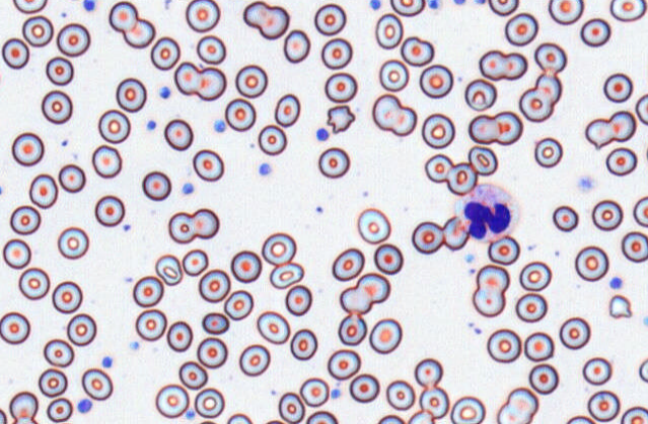GRAN: (455, 181, 527, 246)
PLT: (258, 161, 276, 178), (76, 397, 94, 414), (213, 118, 229, 133), (329, 387, 344, 403), (316, 125, 330, 142), (100, 355, 115, 370), (158, 84, 172, 100), (609, 276, 625, 290), (182, 180, 195, 197), (82, 0, 97, 13), (367, 0, 381, 13), (425, 0, 441, 11), (145, 118, 157, 130), (185, 408, 196, 421), (472, 0, 487, 8), (452, 0, 468, 7)
RBC: (371, 93, 416, 136), (468, 110, 523, 145), (243, 0, 289, 39), (478, 49, 527, 81), (518, 86, 553, 122), (574, 245, 609, 281), (357, 207, 391, 244), (486, 328, 521, 363), (421, 113, 455, 148), (155, 383, 189, 418), (369, 318, 402, 354), (504, 12, 538, 46), (419, 64, 453, 98), (56, 22, 90, 56), (256, 310, 290, 344), (261, 232, 296, 265), (411, 220, 444, 254), (331, 247, 364, 281), (11, 132, 44, 166), (185, 0, 220, 32), (464, 78, 497, 111), (235, 64, 267, 98), (198, 268, 230, 302), (98, 109, 130, 143), (355, 272, 390, 303), (115, 77, 146, 112), (534, 42, 566, 75), (327, 348, 360, 380), (18, 267, 50, 300), (238, 343, 270, 376), (224, 98, 256, 131), (57, 226, 89, 259), (91, 144, 122, 178), (41, 90, 72, 124), (314, 3, 346, 35), (318, 146, 350, 178), (192, 149, 224, 181), (591, 199, 623, 231), (587, 390, 620, 421), (324, 72, 357, 103), (559, 316, 590, 349), (135, 308, 166, 341), (230, 250, 261, 283), (196, 66, 226, 100), (150, 36, 180, 70), (400, 36, 434, 66), (29, 173, 58, 208), (375, 13, 403, 49), (22, 15, 53, 47), (378, 59, 409, 91), (321, 37, 352, 69), (132, 275, 163, 307), (81, 368, 112, 400), (196, 336, 227, 368), (122, 18, 155, 48), (446, 162, 476, 195), (419, 386, 449, 419), (0, 311, 30, 344), (66, 313, 96, 346), (52, 280, 82, 313), (269, 261, 304, 289), (450, 395, 485, 423), (487, 235, 519, 265), (519, 261, 551, 291), (515, 292, 547, 322), (94, 194, 124, 226), (472, 288, 505, 317), (442, 215, 469, 250), (585, 118, 615, 149), (108, 1, 138, 32), (385, 379, 415, 410), (523, 331, 554, 361), (528, 363, 558, 394), (373, 243, 403, 274), (580, 17, 611, 47), (194, 387, 224, 418), (257, 124, 287, 155), (223, 289, 253, 320), (337, 313, 366, 345), (605, 147, 637, 176), (164, 118, 193, 150), (283, 29, 310, 63), (467, 145, 497, 175), (349, 373, 379, 403), (299, 377, 329, 407), (196, 34, 226, 64), (548, 0, 584, 25), (603, 72, 633, 102), (414, 357, 443, 388), (9, 391, 38, 422), (43, 338, 74, 367), (2, 238, 31, 269), (9, 205, 40, 234), (168, 211, 196, 243), (339, 286, 371, 314), (534, 136, 562, 168), (1, 37, 29, 69), (174, 61, 200, 95), (274, 93, 300, 127), (38, 367, 67, 397), (142, 170, 171, 200), (608, 110, 636, 141), (155, 253, 182, 285), (285, 284, 312, 316), (290, 328, 317, 360), (424, 153, 453, 182), (582, 356, 611, 385), (178, 360, 207, 389), (278, 392, 305, 423), (166, 320, 192, 352), (45, 56, 73, 85), (192, 208, 219, 238), (58, 163, 85, 193), (535, 73, 561, 104), (621, 231, 647, 262), (609, 0, 646, 21), (496, 402, 531, 423), (182, 248, 208, 276), (552, 205, 578, 231), (46, 397, 73, 422), (201, 312, 229, 334), (390, 0, 425, 16), (488, 0, 518, 16), (620, 406, 647, 423), (12, 0, 47, 13), (633, 196, 647, 227), (306, 410, 337, 423), (635, 93, 647, 125), (407, 409, 434, 423), (226, 413, 252, 423), (377, 414, 405, 423), (566, 415, 595, 423), (638, 358, 647, 383), (13, 416, 38, 423), (0, 408, 7, 423), (198, 419, 218, 424), (264, 419, 286, 423)
Schistocyte: (325, 104, 358, 134), (609, 295, 636, 318)
